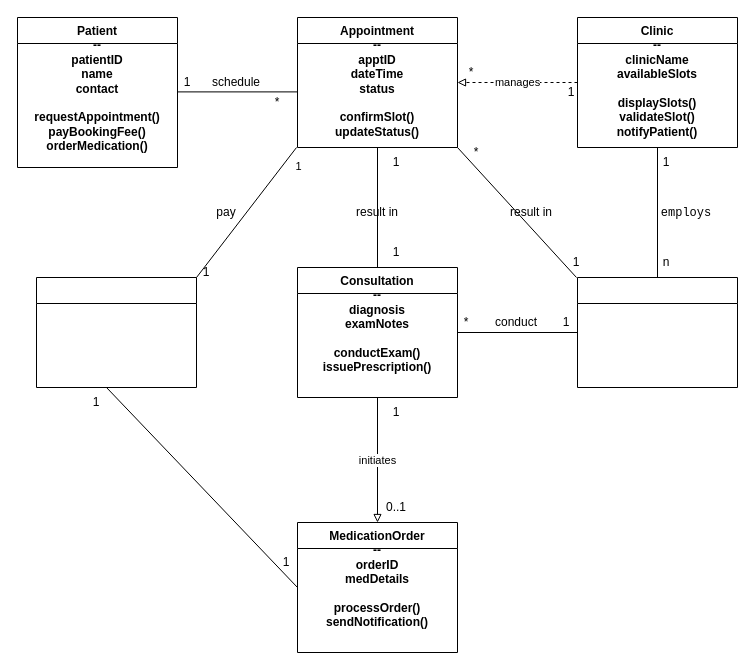
This 755x670 diagram has some shape labels left out. The shapes that lost their labels are listed below. From the top down, each one's centre as x and y in pixels, then its label:
At point 116,332: "Payment -- paymentID amount isConfirmed processTransaction()".
At point 657,332: "Doctor -- doctorID name diagnosePatient() prescribeMedication()".
